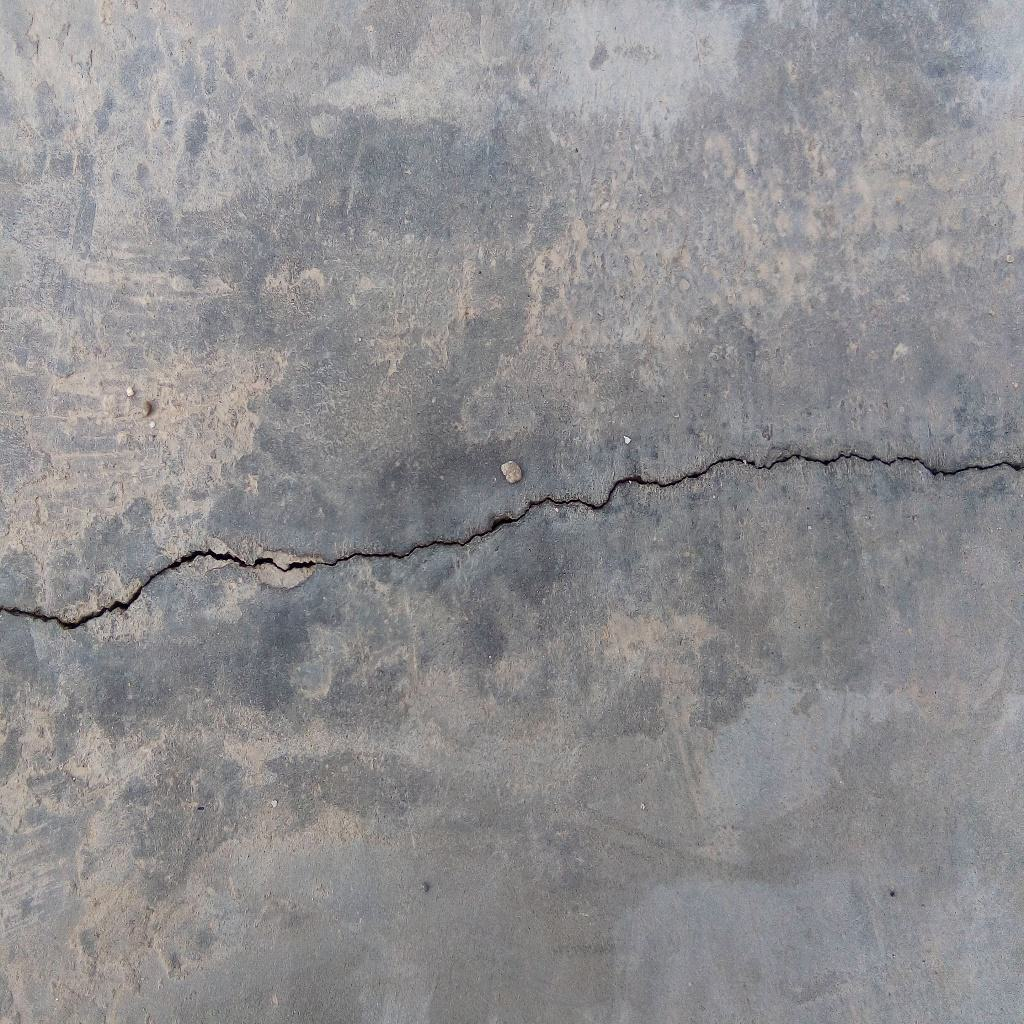Crack: (1, 447, 1024, 631)
